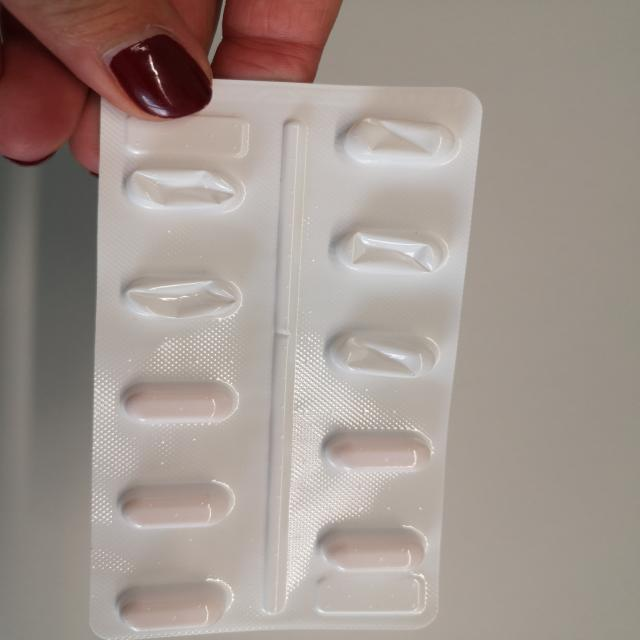Empty: (318, 108, 476, 169), (110, 266, 253, 331), (307, 320, 453, 382), (314, 218, 454, 282), (108, 161, 250, 223)
Pill: (308, 519, 443, 581), (106, 576, 246, 635), (110, 371, 252, 429), (310, 421, 438, 485), (101, 477, 245, 529)
